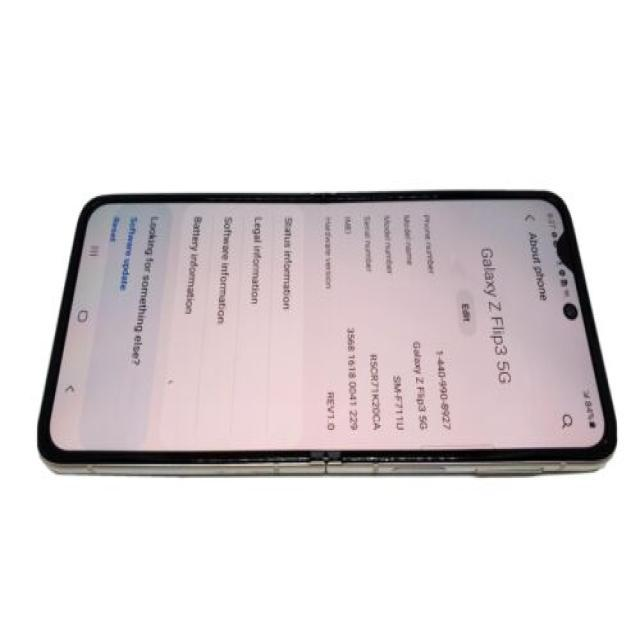dead pixel: (537, 223, 591, 273)
